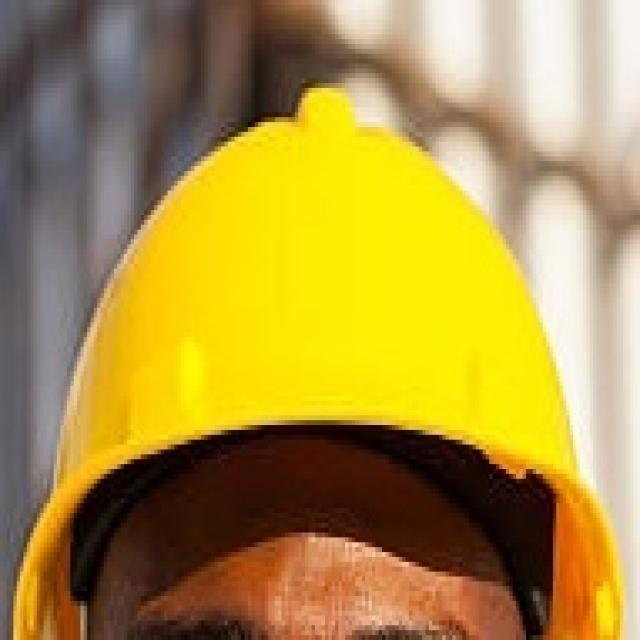safety_helmet: (11, 83, 625, 638)
